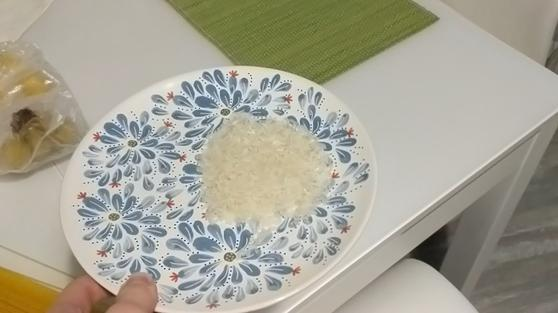rice: (183, 104, 342, 238)
